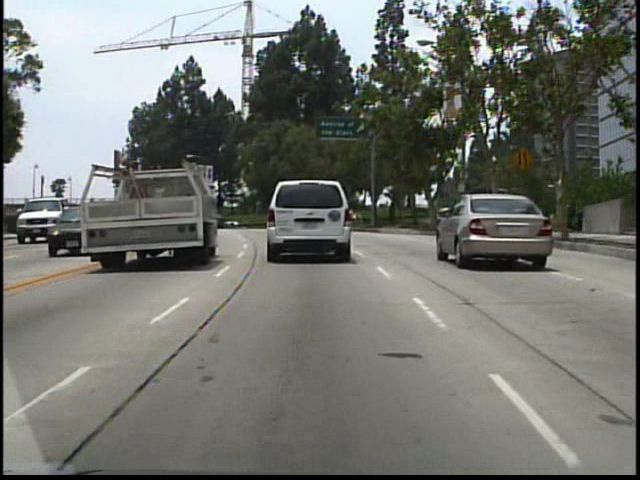person: (445, 193, 464, 234)
